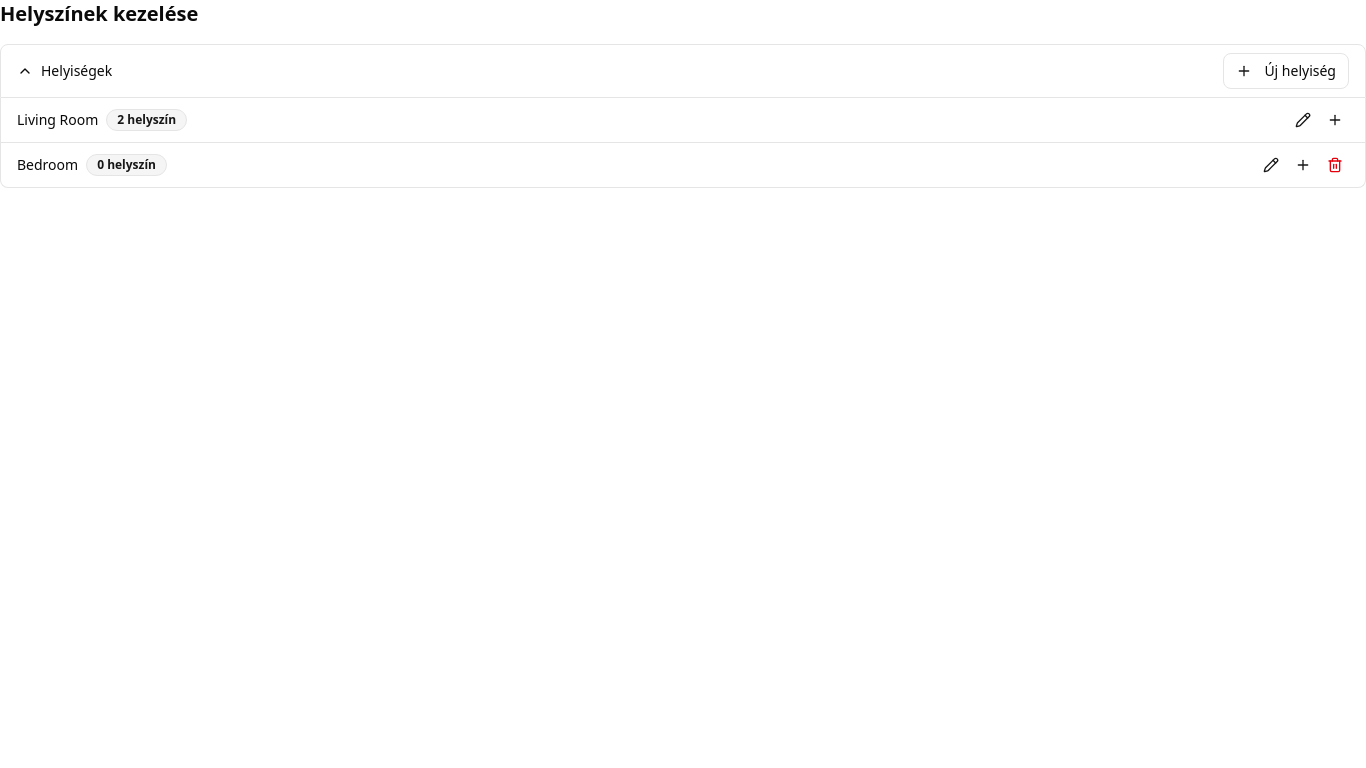
Test: LocationManagementPage — room delete modal › clicking delete button on room with no locations opens delete modal
The width and height of the screenshot is (1366, 768).
Expected: the text "Bedroom" is shown, [17,155,78,175]
Click the button named "Törlés" at (1335, 165), box [1321,151,1349,179]
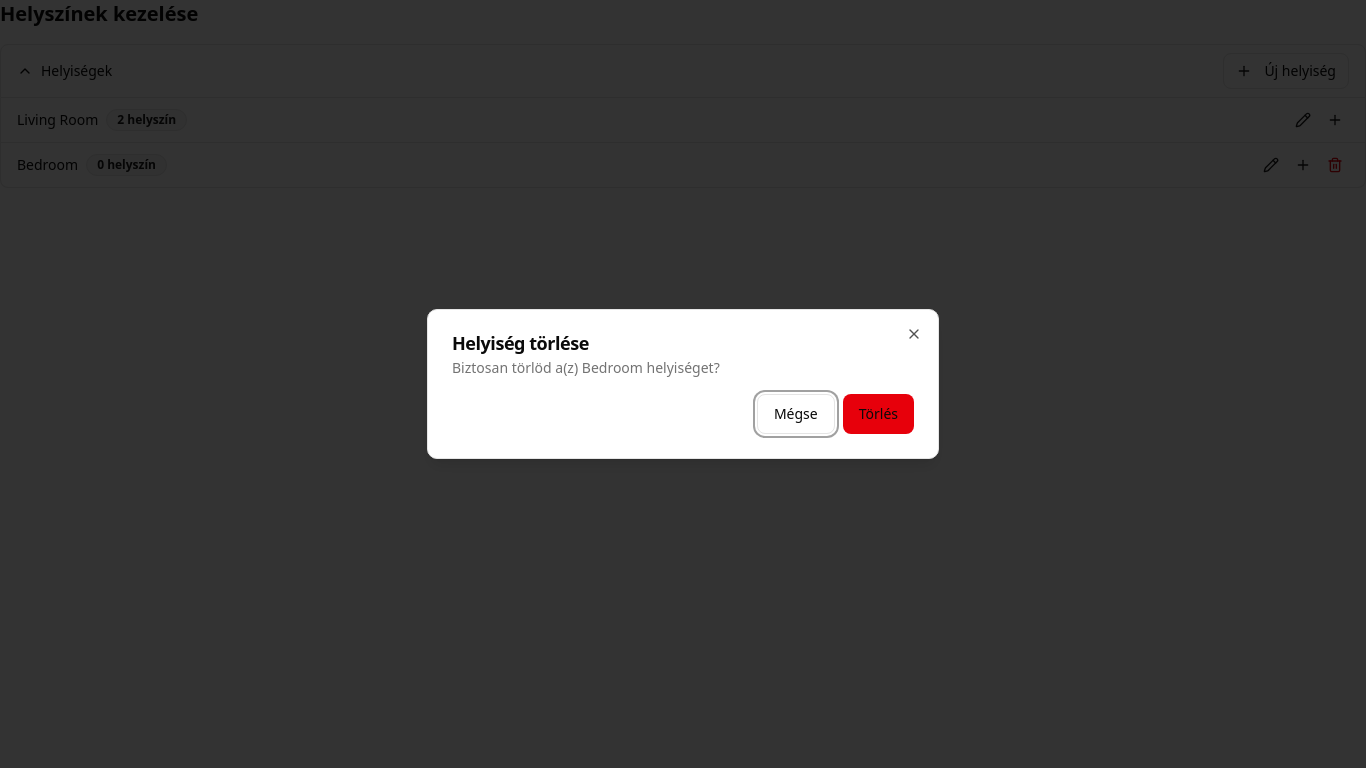
Expected: the dialog is shown, [427,309,939,459]
